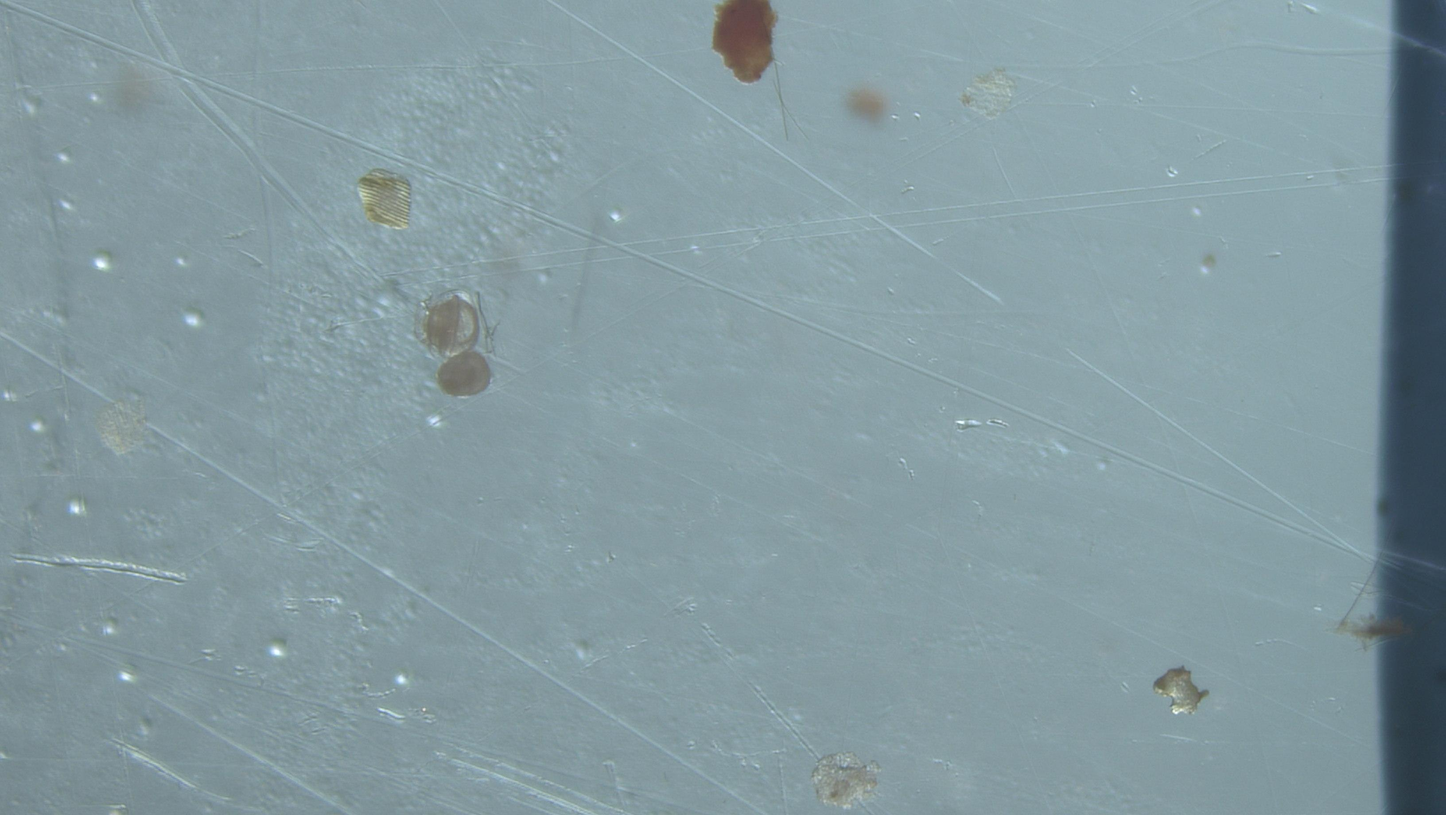live: (419, 292, 483, 357), (437, 350, 492, 397)
